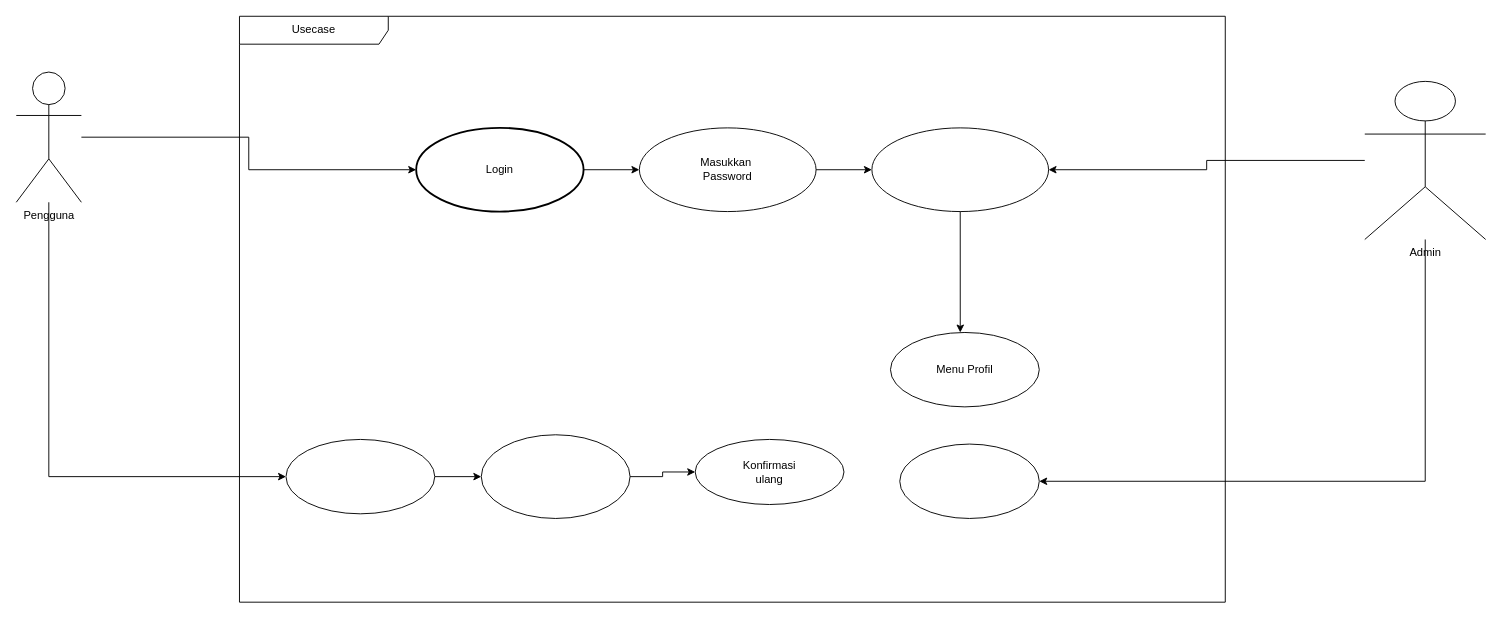
Image size: 1502x618. Some labels were removed from this diagram. The box of each missing label's shape, as (x1, y1, x2, y2) in pixels:
Autentifikasi: (871, 127, 1049, 212)
Daftar: (285, 438, 435, 514)
Data Tersimpan: (899, 443, 1039, 518)
Masukkan Email dan Password: (480, 434, 630, 518)
